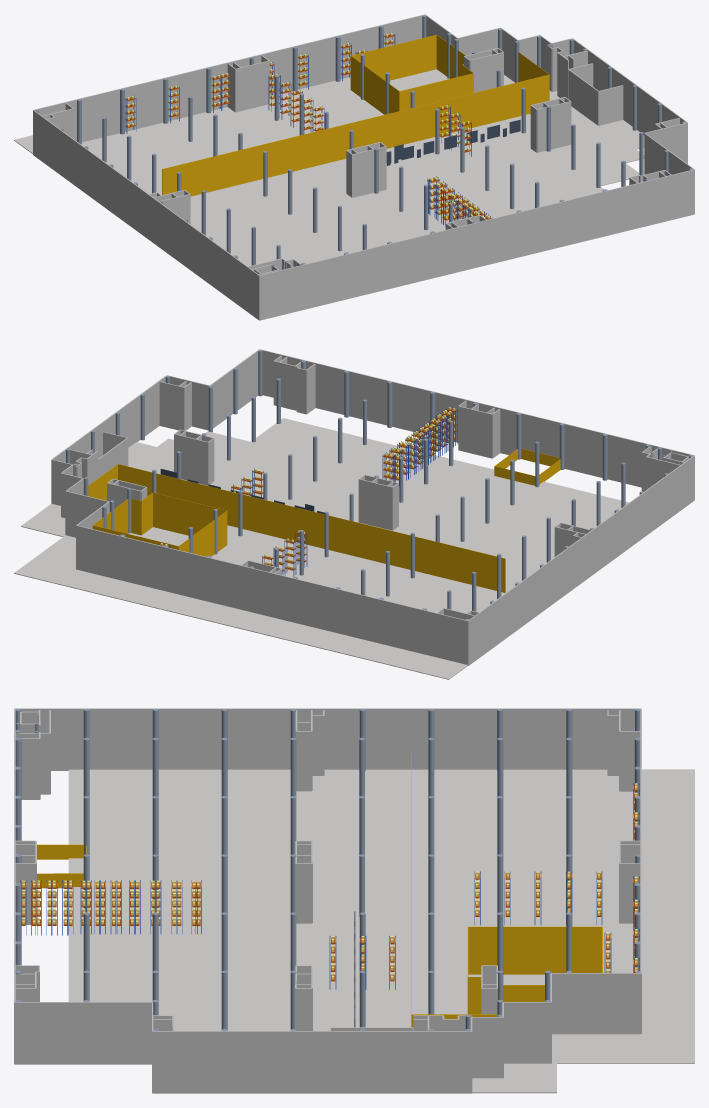
Rendered from model_cff5f0cd477a.glb.
3 renders of one model, top to bottom at view 1: azimuth 30°, elevation 25°; view 2: azimuth 150°, elevation 25°; view 3: azimuth 270°, elevation 25°, orthographic. The views are drawn at different scales.
Parts seen in each view (by area): view 1: slab_slab_qd5glankr12s524m, fence_fence_9547ehxcojmh6no7, wall_wall_iclxgez1ca3sk7i3, wall_wall_x4gj8lw0whu8rok2, wall_wall_svn2xcw8pva24704, wall_wall_o97iajx14hd0jrke, wall_wall_12n7s9zjhopszuh2, wall_wall_blvb2yn74gwafz16, fence_fence_6hgma1ecy0x5lkpu, wall_wall_l51drcemzqn43vud, fence_fence_aj91qs95k5w8e4jt, wall_wall_wfcgukvvizrcj03u (+19 smaller); view 2: slab_slab_qd5glankr12s524m, fence_fence_9547ehxcojmh6no7, wall_wall_12n7s9zjhopszuh2, wall_wall_svn2xcw8pva24704, wall_wall_iclxgez1ca3sk7i3, wall_wall_x4gj8lw0whu8rok2, wall_wall_o97iajx14hd0jrke, wall_wall_blvb2yn74gwafz16, wall_wall_yknmdo6s0xgt5a6t, fence_fence_aj91qs95k5w8e4jt, wall_wall_wfcgukvvizrcj03u, wall_wall_a0w2ubgz05p21l11 (+19 smaller); view 3: slab_slab_qd5glankr12s524m, wall_wall_o97iajx14hd0jrke, wall_wall_blvb2yn74gwafz16, wall_wall_wfcgukvvizrcj03u, wall_wall_yknmdo6s0xgt5a6t, fence_fence_gpsaf7xyr3pguhxy, wall_wall_744wzezo50w76q21, wall_wall_dmf2sezt3vjo1otn, wall_wall_fya8ive253bt6byj, wall_wall_vdsgfk74ikiexj3n, wall_wall_aq6tllza0btaqs3c, wall_wall_fl6riuxe1h0r0iqe (+14 smaller).
Part boxes in pixels (x1,y1,x2,y2): slab_slab_qd5glankr12s524m: [26, 69, 644, 266]; fence_fence_9547ehxcojmh6no7: [162, 74, 549, 196]; wall_wall_iclxgez1ca3sk7i3: [303, 228, 454, 309]; wall_wall_x4gj8lw0whu8rok2: [487, 183, 638, 264]; wall_wall_svn2xcw8pva24704: [66, 62, 227, 142]; wall_wall_o97iajx14hd0jrke: [45, 119, 147, 238]; wall_wall_12n7s9zjhopszuh2: [261, 14, 424, 96]; wall_wall_blvb2yn74gwafz16: [157, 201, 246, 310]; fence_fence_6hgma1ecy0x5lkpu: [351, 35, 436, 80]; wall_wall_l51drcemzqn43vud: [259, 267, 295, 320]; fence_fence_aj91qs95k5w8e4jt: [399, 73, 473, 110]; wall_wall_wfcgukvvizrcj03u: [623, 75, 679, 134]; slab_slab_qd5glankr12s524m: [14, 418, 629, 669]; fence_fence_9547ehxcojmh6no7: [118, 464, 505, 592]; wall_wall_12n7s9zjhopszuh2: [76, 525, 240, 609]; wall_wall_svn2xcw8pva24704: [273, 573, 435, 656]; wall_wall_iclxgez1ca3sk7i3: [500, 408, 651, 487]; wall_wall_x4gj8lw0whu8rok2: [315, 363, 466, 442]; wall_wall_o97iajx14hd0jrke: [480, 537, 583, 656]; wall_wall_blvb2yn74gwafz16: [592, 464, 682, 574]; wall_wall_yknmdo6s0xgt5a6t: [210, 349, 259, 428]; fence_fence_aj91qs95k5w8e4jt: [153, 492, 226, 535]; wall_wall_wfcgukvvizrcj03u: [102, 380, 159, 447]; wall_wall_a0w2ubgz05p21l11: [435, 613, 468, 664]; slab_slab_qd5glankr12s524m: [68, 769, 694, 1093]; wall_wall_o97iajx14hd0jrke: [324, 708, 607, 769]; wall_wall_blvb2yn74gwafz16: [50, 708, 296, 770]; wall_wall_wfcgukvvizrcj03u: [173, 1031, 330, 1093]; wall_wall_yknmdo6s0xgt5a6t: [14, 1002, 152, 1064]; fence_fence_gpsaf7xyr3pguhxy: [468, 926, 602, 974]; wall_wall_744wzezo50w76q21: [551, 973, 640, 1034]; wall_wall_dmf2sezt3vjo1otn: [330, 1031, 413, 1093]; wall_wall_fya8ive253bt6byj: [503, 1002, 551, 1063]; wall_wall_vdsgfk74ikiexj3n: [428, 1031, 471, 1093]; wall_wall_aq6tllza0btaqs3c: [472, 1017, 503, 1078]; wall_wall_fl6riuxe1h0r0iqe: [152, 1031, 173, 1093].
Bounding box in the file's own units: 142 × 12.7 × 126.
